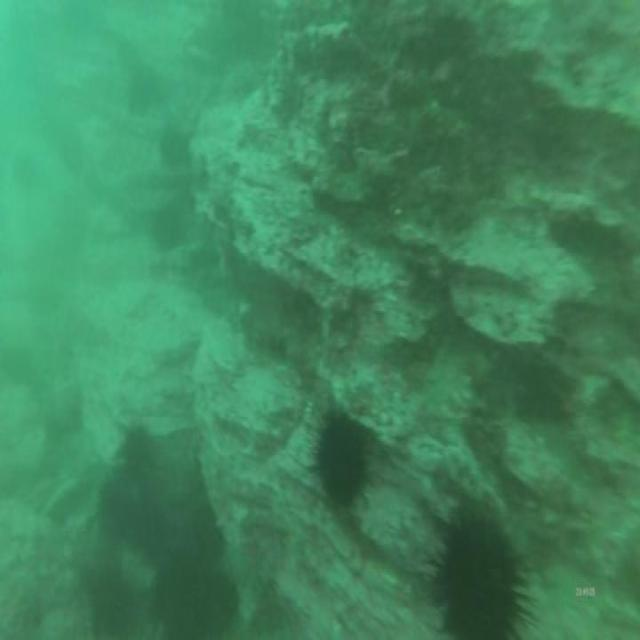echinus: (431, 504, 529, 640), (312, 414, 374, 514), (100, 460, 154, 545), (156, 118, 194, 178), (150, 204, 190, 259)
